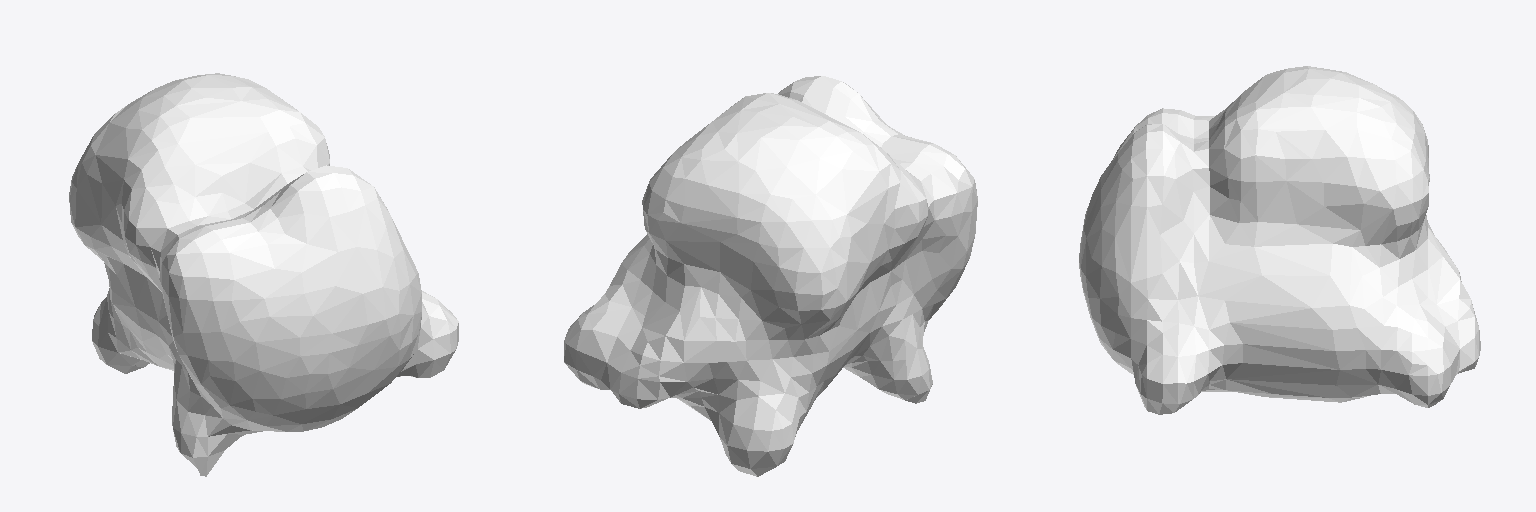
Rendered from gatopan.obj.
The picture shows the model from 3 angles: view 1: azimuth 30°, elevation 25°; view 2: azimuth 150°, elevation 25°; view 3: azimuth 270°, elevation 25°; orthographic projection.
Parts seen in each view (by area): view 1: scaniverse-[number redacted]-180906; view 2: scaniverse-[number redacted]-180906; view 3: scaniverse-[number redacted]-180906.
Boxes of the visible parts, box(x1,y1,x2,y2) form: scaniverse-[number redacted]-180906: box(69, 73, 458, 476); scaniverse-[number redacted]-180906: box(564, 76, 977, 476); scaniverse-[number redacted]-180906: box(1079, 66, 1480, 414).
Bounding box in the file's own units: 1.18 × 1.23 × 1.41.